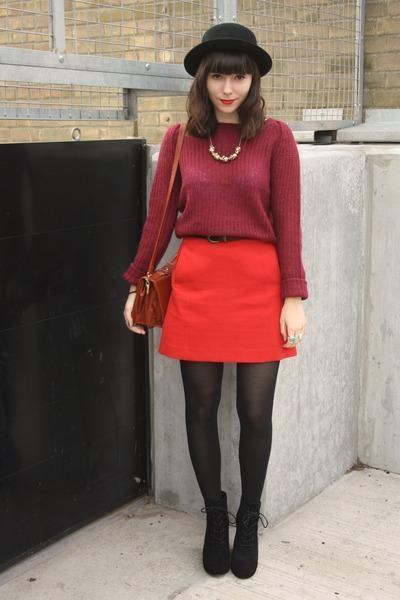hat: (184, 23, 271, 75)
jacket: (123, 118, 307, 299)
shoe: (186, 486, 260, 556)
skirt: (159, 241, 296, 362)
